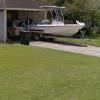Boat: (30, 0, 94, 45)
